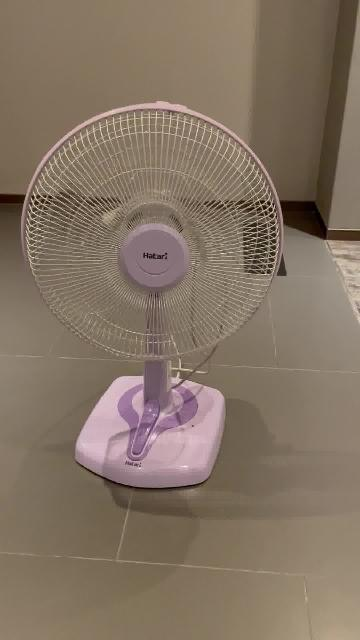Fan: (21, 102, 284, 491)
